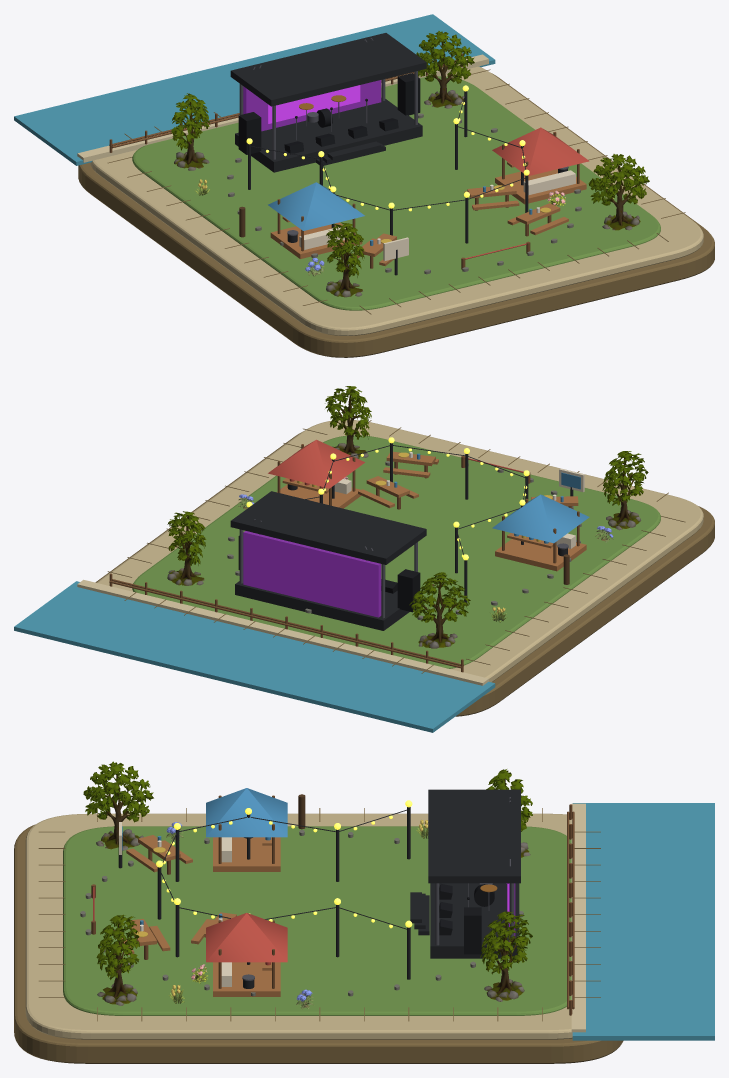
File: festival-experience-map.glb
The picture shows the model from 3 angles, top to bottom: view 1: azimuth 30°, elevation 25°; view 2: azimuth 150°, elevation 25°; view 3: azimuth 270°, elevation 25°; orthographic projection. The views are drawn at different scales.
Parts seen in each view (by area): view 1: Festival_Lawn, Promenade, Island_Base, River, StageRoof, StageDeck, tripo_node_0dde67af-841b-4742-82a1-1dec368d5454.003, tripo_node_0dde67af-841b-4742-82a1-1dec368d5454, Blue_Experience_Tent_Roof, Red_Experience_Tent_Roof, tripo_node_0dde67af-841b-4742-82a1-1dec368d5454.002, tripo_node_0dde67af-841b-4742-82a1-1dec368d5454.001 (+8 smaller); view 2: Festival_Lawn, River, Promenade, StageBack, StageRoof, Island_Base, River_Bank, Blue_Experience_Tent_Roof, Red_Experience_Tent_Roof, StageDeck, tripo_node_0dde67af-841b-4742-82a1-1dec368d5454.001, tripo_node_0dde67af-841b-4742-82a1-1dec368d5454.002 (+7 smaller); view 3: Festival_Lawn, River, Promenade, Island_Base, StageRoof, Red_Experience_Tent_Roof, StageDeck, tripo_node_0dde67af-841b-4742-82a1-1dec368d5454.002, Blue_Experience_Tent_Roof, River_Bank, tripo_node_0dde67af-841b-4742-82a1-1dec368d5454, tripo_node_0dde67af-841b-4742-82a1-1dec368d5454.003 (+6 smaller).
Boxes of the visible parts, x1,y1,x2,y2 form: Festival_Lawn: (132,76,660,310); Promenade: (90,66,703,335); Island_Base: (78,73,714,357); River: (14,14,495,165); StageRoof: (230,33,426,106); StageDeck: (235,98,422,172); tripo_node_0dde67af-841b-4742-82a1-1dec368d5454.003: (588,154,649,230); tripo_node_0dde67af-841b-4742-82a1-1dec368d5454: (416,31,474,108); Blue_Experience_Tent_Roof: (268,182,364,230); Red_Experience_Tent_Roof: (492,127,589,175); tripo_node_0dde67af-841b-4742-82a1-1dec368d5454.002: (326,222,364,297); tripo_node_0dde67af-841b-4742-82a1-1dec368d5454.001: (171,93,210,170); Festival_Lawn: (132,435,660,668); River: (14,581,495,732); Promenade: (97,420,703,682); StageBack: (243,531,381,617); StageRoof: (230,491,426,564); Island_Base: (95,432,714,716); River_Bank: (77,579,488,685); Blue_Experience_Tent_Roof: (492,494,589,543); Red_Experience_Tent_Roof: (268,439,364,488); StageDeck: (235,581,421,630); tripo_node_0dde67af-841b-4742-82a1-1dec368d5454.001: (409,572,470,648); tripo_node_0dde67af-841b-4742-82a1-1dec368d5454.002: (602,451,648,530); Festival_Lawn: (63,826,571,1015); River: (572,803,714,1040); Promenade: (25,813,572,1039); Island_Base: (14,824,623,1063); StageRoof: (428,789,520,883); Red_Experience_Tent_Roof: (206,913,287,962); StageDeck: (430,883,519,958); tripo_node_0dde67af-841b-4742-82a1-1dec368d5454.002: (83,761,153,850); Blue_Experience_Tent_Roof: (206,788,287,837); River_Bank: (571,803,585,1034); tripo_node_0dde67af-841b-4742-82a1-1dec368d5454: (480,911,532,1001); tripo_node_0dde67af-841b-4742-82a1-1dec368d5454.003: (96,914,139,1005).
Size of the model in its own units: 31 by 7.49 by 39.38.
25 materials, 4 textured.
